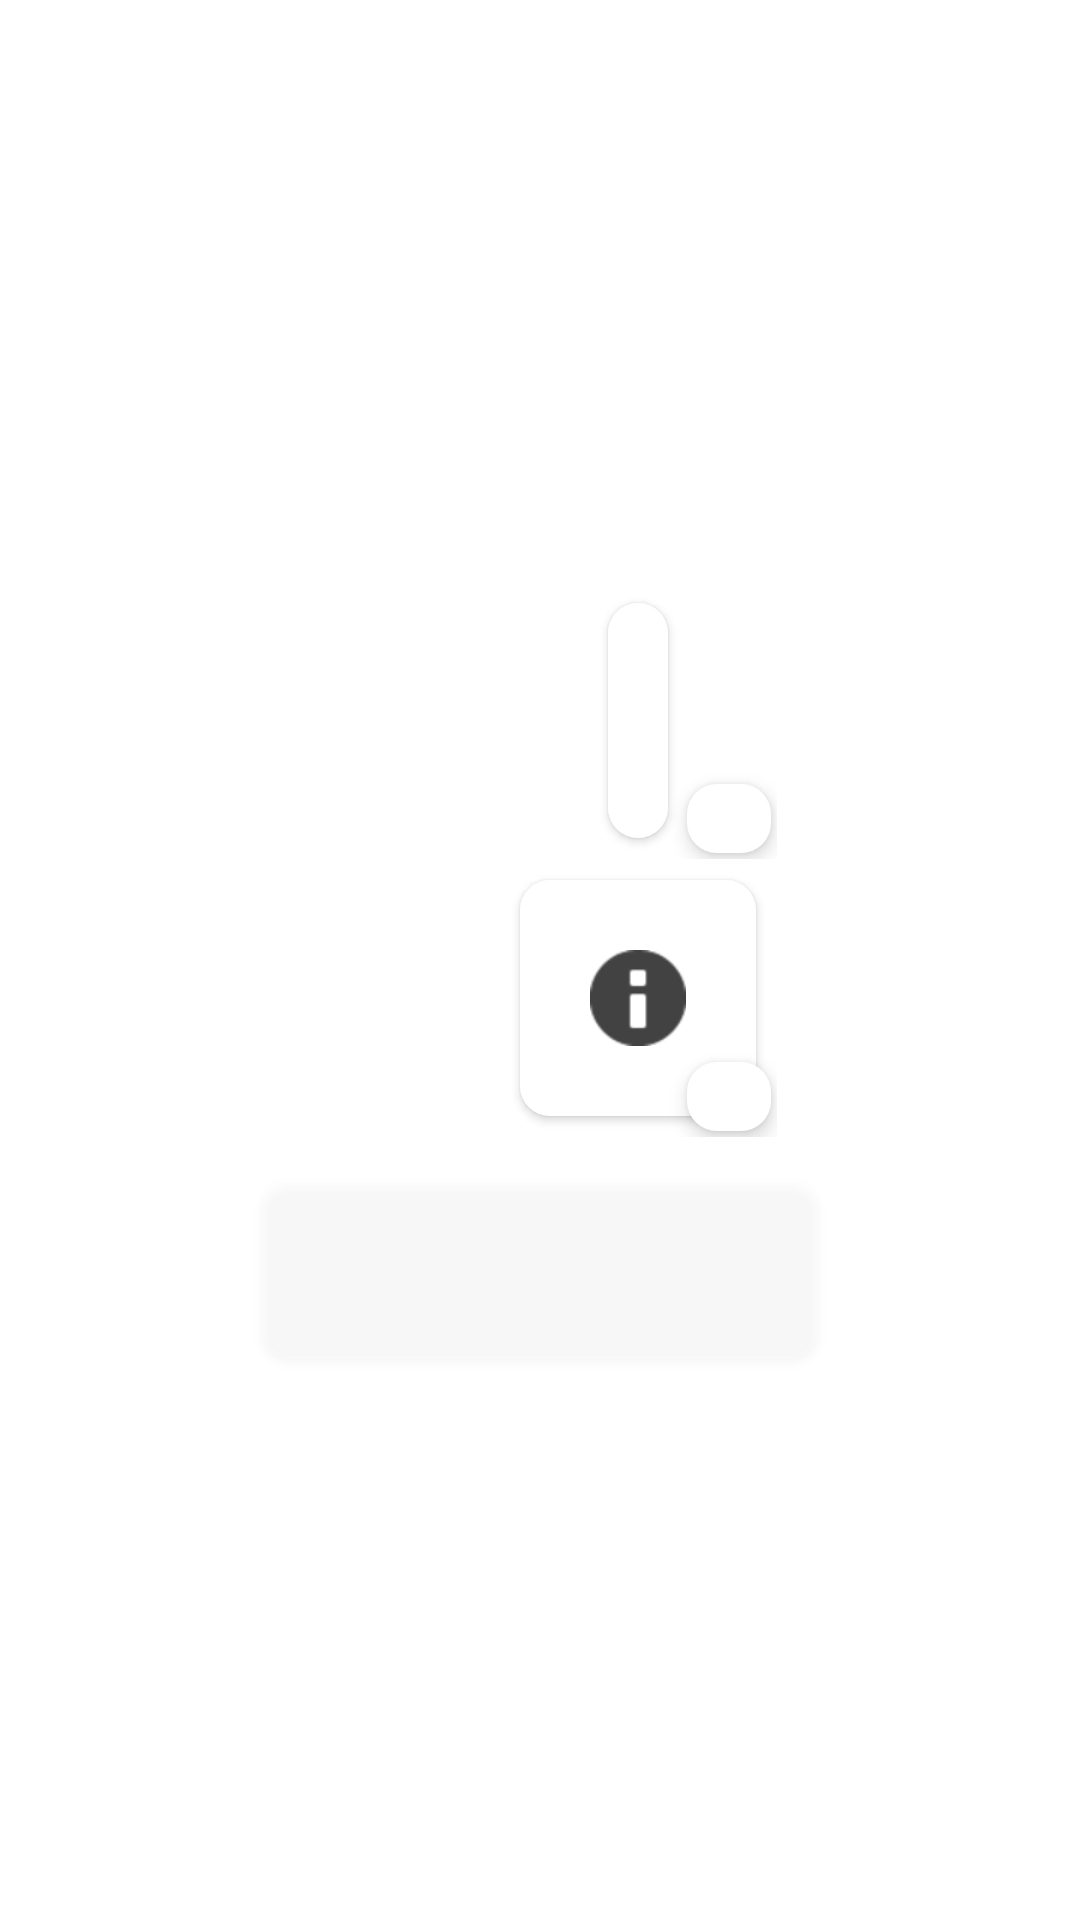

Screen size 1080px×1920px. Icon name, then its center in pixels as point (x, y):
info: point (603, 1022)
